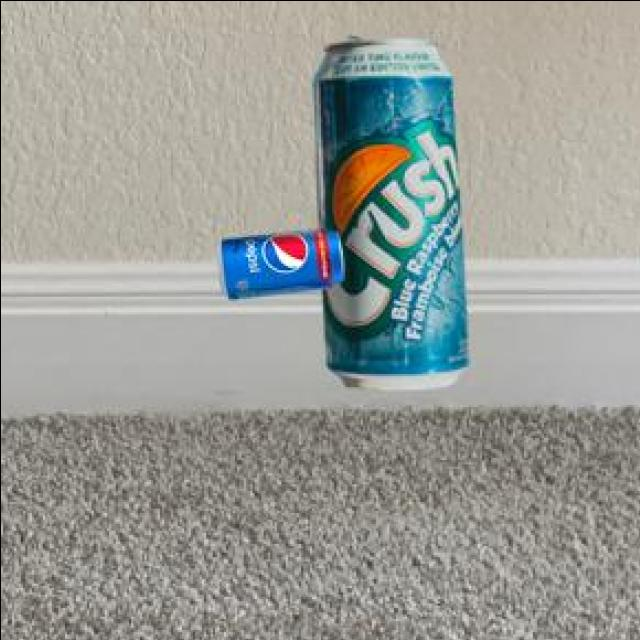logam: (310, 32, 465, 385), (213, 226, 339, 295)
